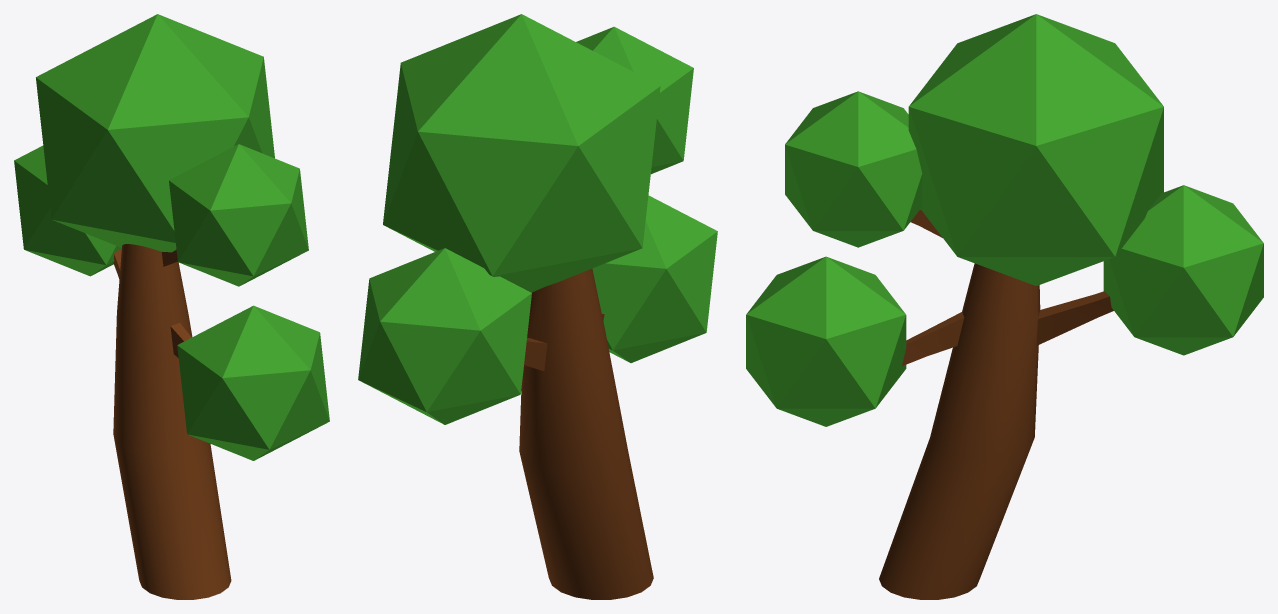
Rendered from Three 2.fbx.
The picture shows the model from 3 angles, left to right: view 1: azimuth 30°, elevation 25°; view 2: azimuth 150°, elevation 25°; view 3: azimuth 270°, elevation 25°; orthographic projection. The views are drawn at different scales.
Parts seen in each view (by area): view 1: Arvore2; view 2: Arvore2; view 3: Arvore2.
Boxes of the visible parts, left/top/right/bottom form: Arvore2: left=14, top=14, right=329, bottom=599; Arvore2: left=358, top=14, right=717, bottom=599; Arvore2: left=746, top=14, right=1263, bottom=599.
Size of the model in its own units: 532 by 1259 by 1025.
